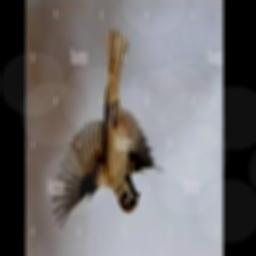Sparrow: (53, 29, 164, 230)
